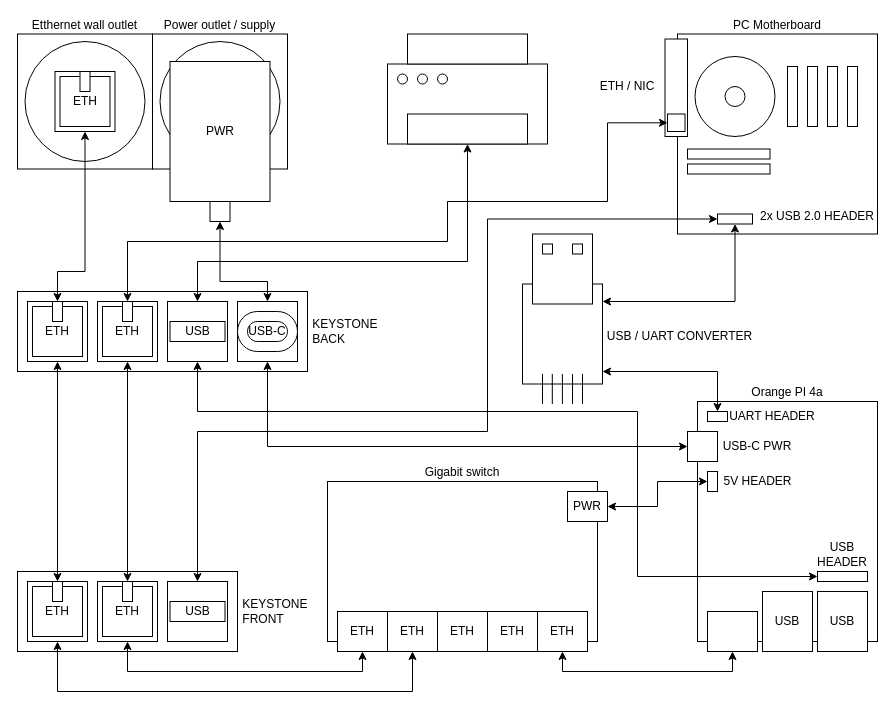
Some shapes in this 895 by 718 pixel diagram are drawn without their labels. Here are the shapes that lost their labels. From the top down, the centre of each, then its label:
the point at 467,48: Printer
the point at 732,631: ETH.
